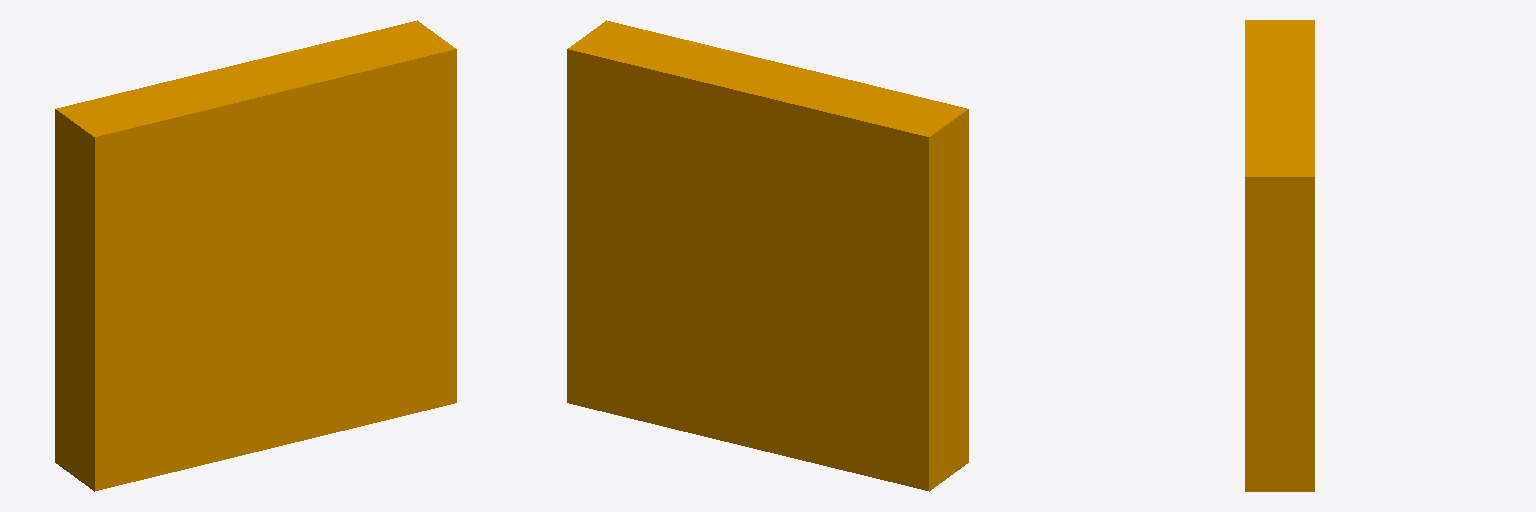
URDF robot description (mate):
<?xml version="1.0"?>
<robot name="mate">
    <link name="mate_base_link">
        <contact>
            <lateral_friction value="1.0"/>
            <spinning_friction value="0.01"/>
            <rolling_friction value="0.01"/>
            <contact_cfm value="0.0"/>
            <contact_erp value="1.0"/>
        </contact>
        <inertial>
            <origin rpy="0 0 0" xyz="0 0 0"/>
            <mass value="0.094"/>
            <inertia ixx="1" ixy="0" ixz="0" iyy="1" iyz="0" izz="1"/>
        </inertial>
        <visual>
            <origin rpy="1.5708 0 1.5708" xyz="0 0 0"/>
            <geometry>
                <mesh filename="cuboid/visual/mate.obj" scale="1.0 1.0 1.0"/>
            </geometry>
        </visual>
        <collision>
            <origin rpy="1.5708 0 1.5708" xyz="0 0 0"/>
            <geometry>
                <mesh filename="cuboid/collision/mate.stl" scale="1.0 1.0 1.0"/>
            </geometry>
        </collision>
    </link>
</robot>

--- Render facts (derived) ---
The picture shows the robot from 3 angles, left to right: view 1: azimuth 30°, elevation 25°; view 2: azimuth 150°, elevation 25°; view 3: azimuth 270°, elevation 25°; orthographic projection.
Model mate with 1 links and 0 joints (none), rooted at mate_base_link, posed every joint at zero.
Links seen in each view (by area): view 1: mate_base_link; view 2: mate_base_link; view 3: mate_base_link.
Link boxes in pixels (x1,y1,x2,y2): mate_base_link: (55, 20, 456, 491); mate_base_link: (567, 20, 968, 491); mate_base_link: (1245, 20, 1314, 491).
Bounding box of the posed robot: 0.107 × 0.02 × 0.1 m (x, y, z).
1 mesh visuals loaded from 1 distinct referenced files (1 OBJ).
